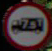Heavy Vehicles: (6, 4, 48, 42)
